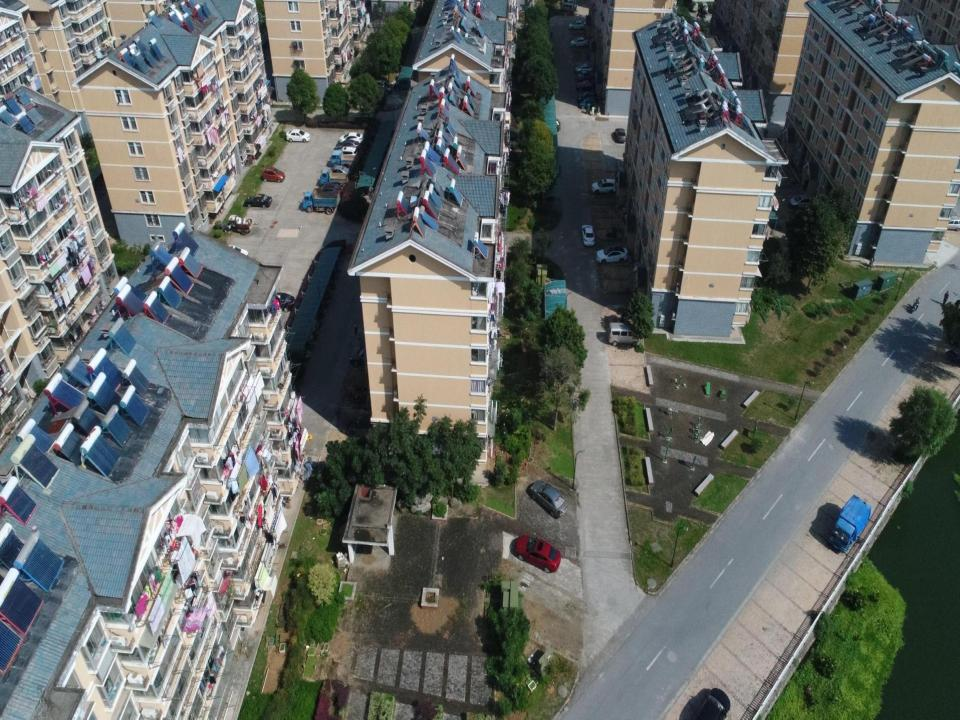car: (513, 534, 562, 574), (528, 479, 569, 518), (695, 688, 730, 719), (596, 243, 628, 265), (350, 345, 377, 367), (267, 292, 296, 312), (592, 178, 618, 195), (244, 193, 273, 208), (262, 166, 285, 184), (286, 128, 311, 143), (315, 184, 343, 197), (789, 194, 813, 209), (334, 146, 358, 159), (335, 140, 359, 153), (339, 132, 363, 145), (372, 79, 393, 93), (582, 224, 595, 246), (327, 166, 350, 178), (944, 216, 959, 232), (576, 79, 595, 91), (580, 96, 596, 110), (570, 37, 589, 48), (614, 127, 627, 143), (547, 117, 561, 131), (578, 92, 597, 102), (575, 64, 594, 74), (577, 71, 595, 81), (568, 20, 586, 30), (912, 301, 920, 312)
truck: (828, 495, 872, 552), (302, 188, 340, 215), (319, 168, 348, 188), (329, 150, 356, 170)
van: (606, 320, 641, 348), (560, 1, 575, 16), (688, 1, 698, 12), (701, 0, 708, 15)
